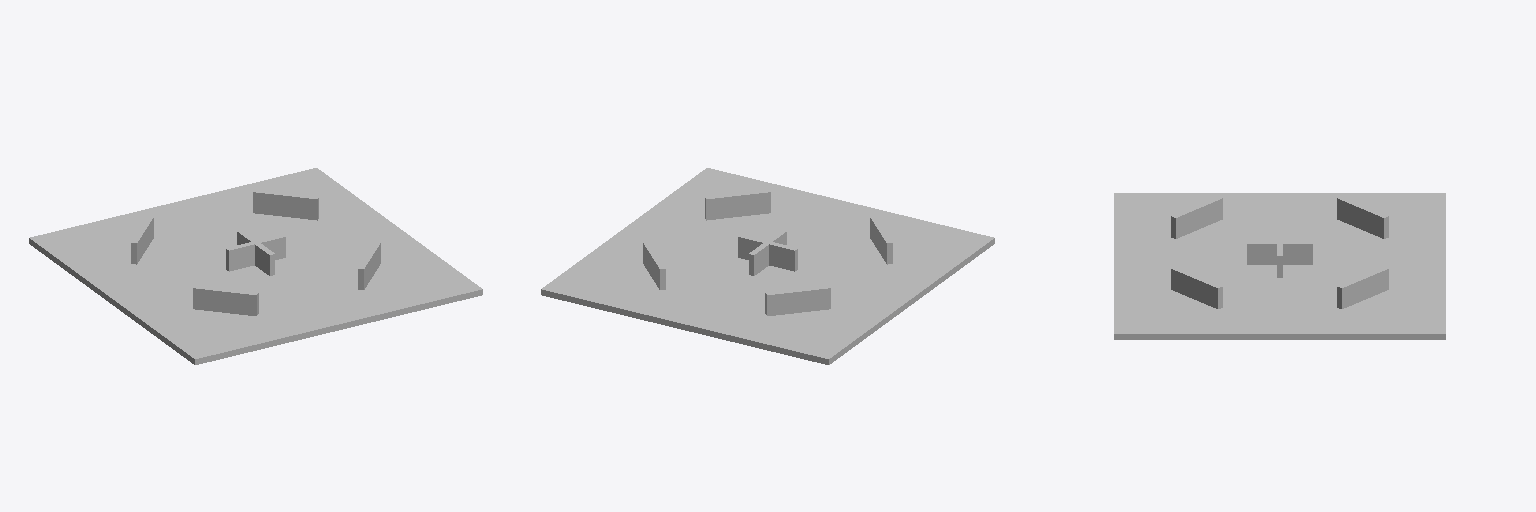
File: level4.obj
3 views of the same model, side by side, from view 1: azimuth 30°, elevation 25°; view 2: azimuth 150°, elevation 25°; view 3: azimuth 270°, elevation 25° (orthographic).
Parts seen in each view (by area): view 1: initialShadingGroup pCube1, initialShadingGroup pCube5, initialShadingGroup pCube7, initialShadingGroup pCube2, initialShadingGroup pCube3, initialShadingGroup pCube4, initialShadingGroup pCube6; view 2: initialShadingGroup pCube1, initialShadingGroup pCube6, initialShadingGroup pCube4, initialShadingGroup pCube2, initialShadingGroup pCube3, initialShadingGroup pCube5, initialShadingGroup pCube7; view 3: initialShadingGroup pCube1, initialShadingGroup pCube3, initialShadingGroup pCube5, initialShadingGroup pCube6, initialShadingGroup pCube4, initialShadingGroup pCube7.
Part boxes in pixels (left/top/right/bottom): initialShadingGroup pCube1: left=29, top=168, right=482, bottom=364; initialShadingGroup pCube5: left=253, top=190, right=318, bottom=220; initialShadingGroup pCube7: left=193, top=285, right=258, bottom=315; initialShadingGroup pCube2: left=226, top=234, right=285, bottom=271; initialShadingGroup pCube3: left=237, top=230, right=274, bottom=275; initialShadingGroup pCube4: left=131, top=216, right=153, bottom=264; initialShadingGroup pCube6: left=358, top=241, right=380, bottom=289; initialShadingGroup pCube1: left=541, top=168, right=994, bottom=364; initialShadingGroup pCube6: left=705, top=190, right=770, bottom=220; initialShadingGroup pCube4: left=765, top=285, right=830, bottom=315; initialShadingGroup pCube2: left=738, top=234, right=797, bottom=271; initialShadingGroup pCube3: left=749, top=230, right=786, bottom=275; initialShadingGroup pCube5: left=643, top=241, right=665, bottom=289; initialShadingGroup pCube7: left=870, top=216, right=892, bottom=264; initialShadingGroup pCube1: left=1114, top=193, right=1445, bottom=339; initialShadingGroup pCube3: left=1247, top=241, right=1312, bottom=264; initialShadingGroup pCube5: left=1337, top=267, right=1388, bottom=308; initialShadingGroup pCube6: left=1171, top=267, right=1222, bottom=308; initialShadingGroup pCube4: left=1337, top=197, right=1388, bottom=238; initialShadingGroup pCube7: left=1171, top=197, right=1222, bottom=238.
Bounding box in the file's own units: 50 × 4.5 × 50.